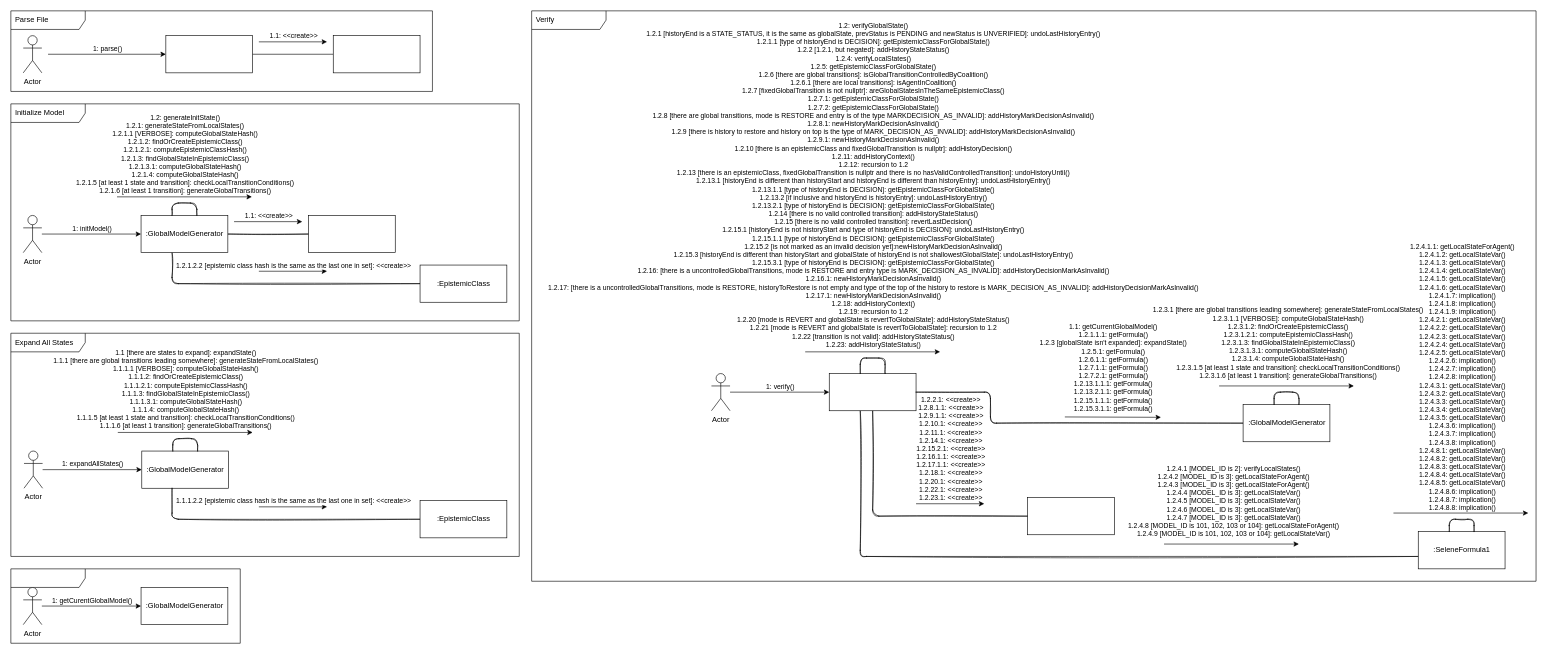
Image size: 1547x654. Some labels were removed from this diagram. The shapes that lost their labels are listed below. From the top down, each one's centre as x and y in pixels, then its label:
point 209,54: :TestParser
point 376,54: :LocalModels
point 351,234: :GlobalModel
point 872,392: :Verification
point 1070,516: :HistoryEntry
point 125,605: Get Current Global Model
